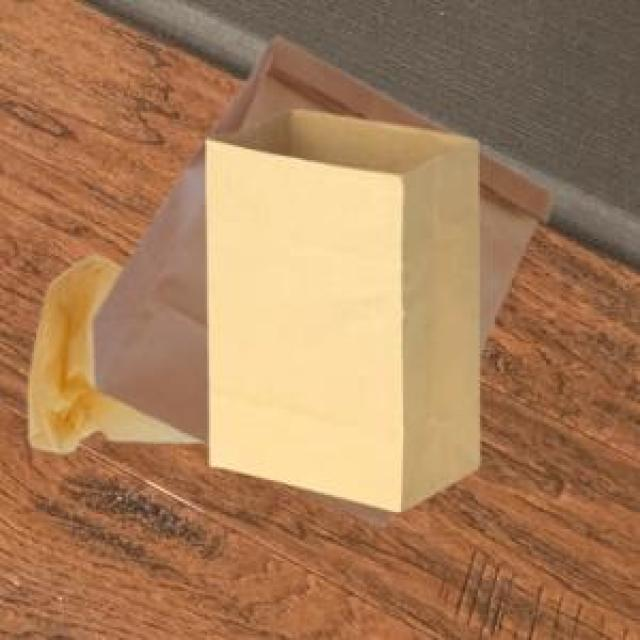paper: (90, 34, 548, 523), (203, 107, 476, 508)
